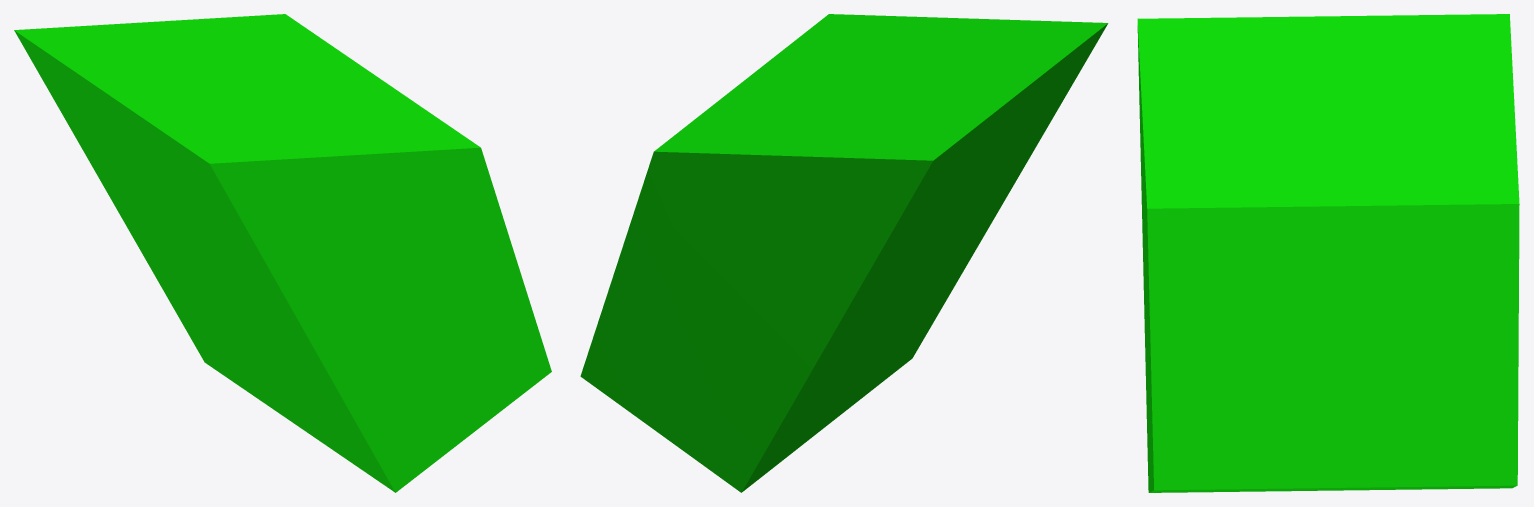
The model's file is sm_castle_032.fbx.
3 renders of one model, left to right at view 1: azimuth 30°, elevation 25°; view 2: azimuth 150°, elevation 25°; view 3: azimuth 270°, elevation 25°, orthographic.
Visible parts, largest first — view 1: sm_castle.032; view 2: sm_castle.032; view 3: sm_castle.032.
Boxes of the visible parts, left/top/right/bottom form: sm_castle.032: left=14, top=14, right=551, bottom=492; sm_castle.032: left=580, top=14, right=1108, bottom=492; sm_castle.032: left=1137, top=14, right=1519, bottom=492.
Size of the model in its own units: 334 by 336 by 306.
